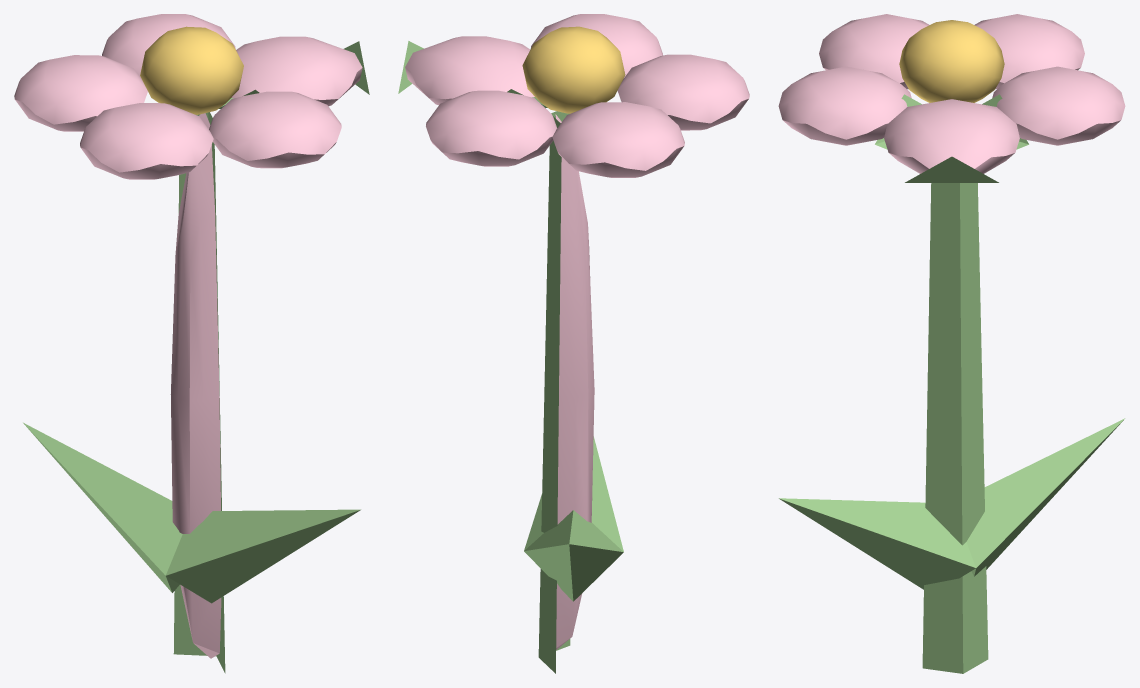
The model's file is FlowerPink.fbx.
The picture shows the model from 3 angles, left to right: view 1: azimuth 30°, elevation 25°; view 2: azimuth 150°, elevation 25°; view 3: azimuth 270°, elevation 25°; orthographic projection.
Visible parts, largest first — view 1: FlowerPink; view 2: FlowerPink; view 3: FlowerPink.
Part boxes in pixels (box(x1,y1,x2,y2)): FlowerPink: box(14, 14, 369, 673); FlowerPink: box(398, 14, 749, 673); FlowerPink: box(778, 14, 1125, 673).
Bounding box in the file's own units: 0.1729 × 0.3458 × 0.1721.
